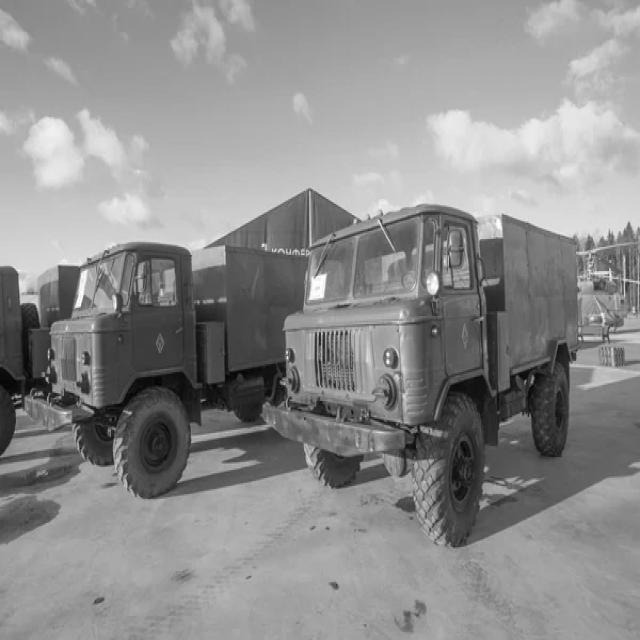Truck: (275, 205, 579, 546), (52, 244, 307, 496)
